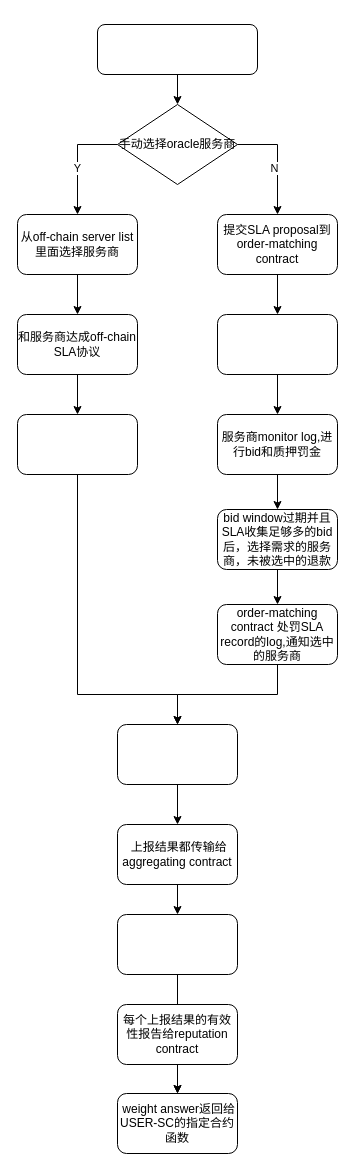
This 355x1171 diagram has some shape labels left out. Each missing label, with the centre of its shape:
"aggregating contract记录结果并计算一个 weighted answer" belongs at (177,944).
"oracle服务购买者制作SLA proposal" belongs at (177,49).
"order-matching contract triggers a log" belongs at (277,344).
"将off-chain达成的SLA协议提交到on-chain" belongs at (77,444).
"被选中的服务商，根据oracle record的要求，执行SLA协议，并上报结果" belongs at (177,754).
